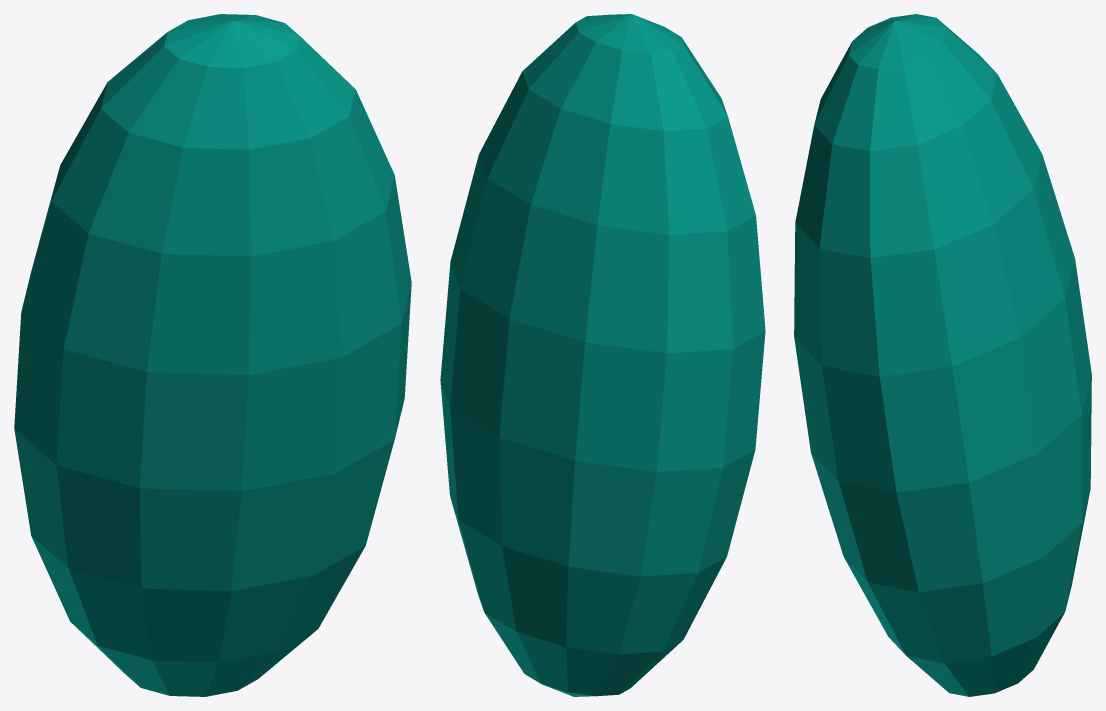
The model's file is n5_group1471686764_lev5.001.glb.
The picture shows the model from 3 angles, left to right: view 1: azimuth 30°, elevation 25°; view 2: azimuth 150°, elevation 25°; view 3: azimuth 270°, elevation 25°; orthographic projection. The views are drawn at different scales.
Visible parts, largest first — view 1: n5_group1471686764_lev5.001; view 2: n5_group1471686764_lev5.001; view 3: n5_group1471686764_lev5.001.
Part boxes in pixels (x1=…): n5_group1471686764_lev5.001: x1=14, y1=14, x2=411, y2=696; n5_group1471686764_lev5.001: x1=440, y1=14, x2=765, y2=696; n5_group1471686764_lev5.001: x1=794, y1=14, x2=1091, y2=696.
Size of the model in its own units: 1.78 by 3.62 by 1.47.
